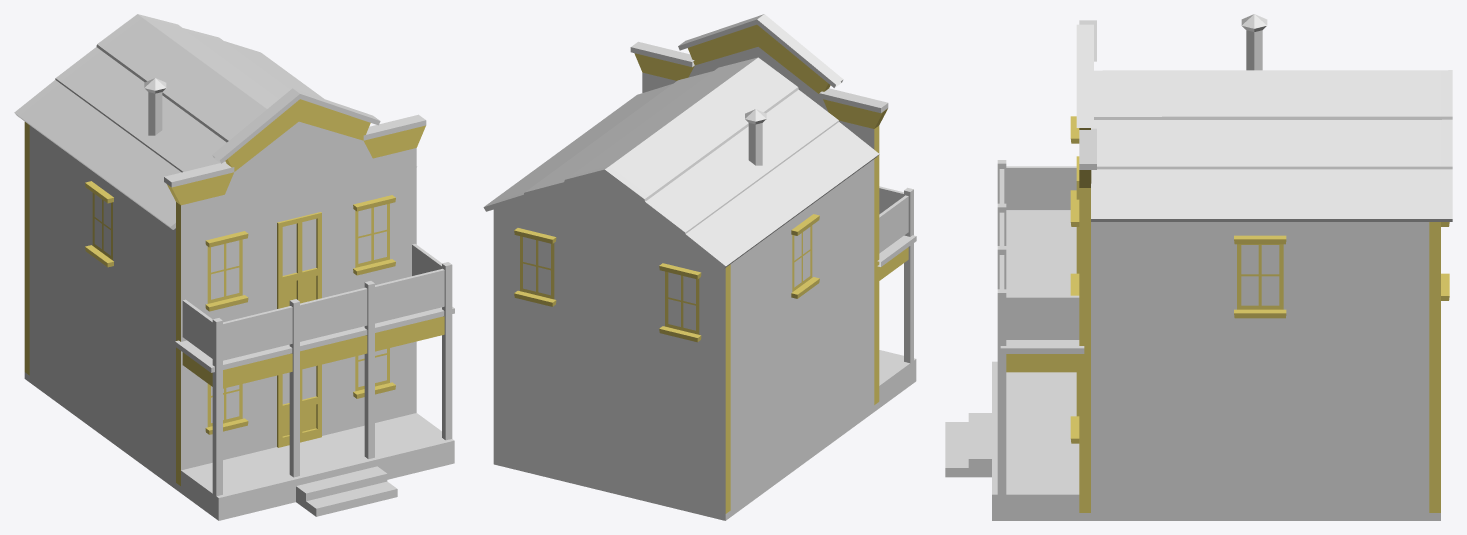
The model's file is western-house-red.fbx.
3 views of the same model, side by side, from view 1: azimuth 30°, elevation 25°; view 2: azimuth 150°, elevation 25°; view 3: azimuth 270°, elevation 25° (orthographic). The views are drawn at different scales.
Parts seen in each view (by area): view 1: western-house-red; view 2: western-house-red; view 3: western-house-red.
Part boxes in pixels (x1,y1,x2,y2): western-house-red: (14,14,454,520); western-house-red: (483,14,916,520); western-house-red: (945,14,1452,520).
Bounding box in the file's own units: 5.83 × 8.13 × 8.7.
